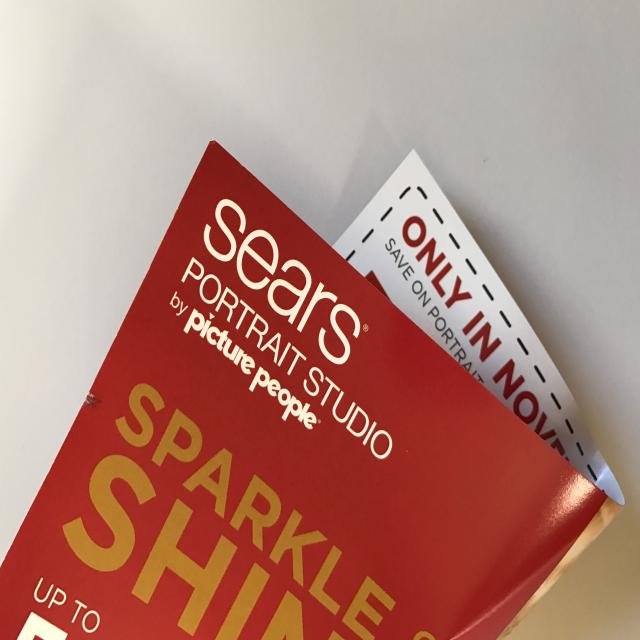paper: (4, 91, 639, 640)
